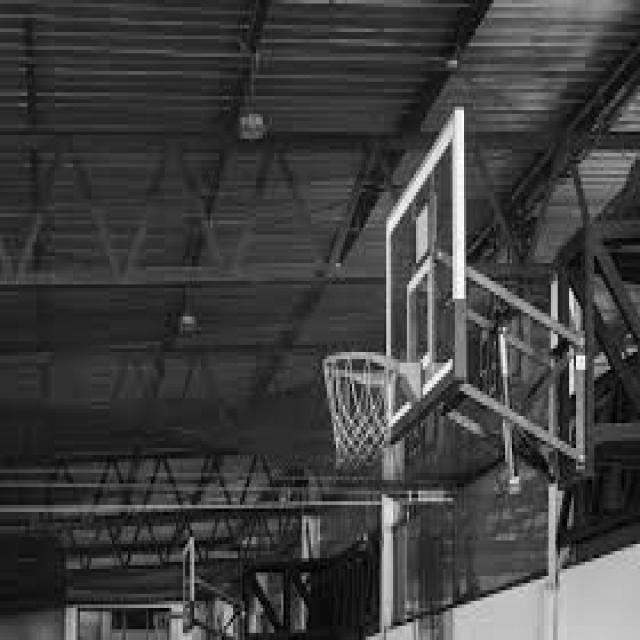backboard: (380, 108, 457, 434)
